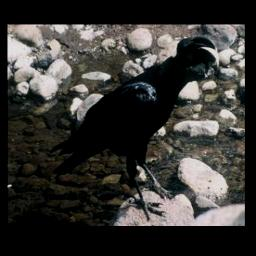Crow: (51, 34, 221, 221)
